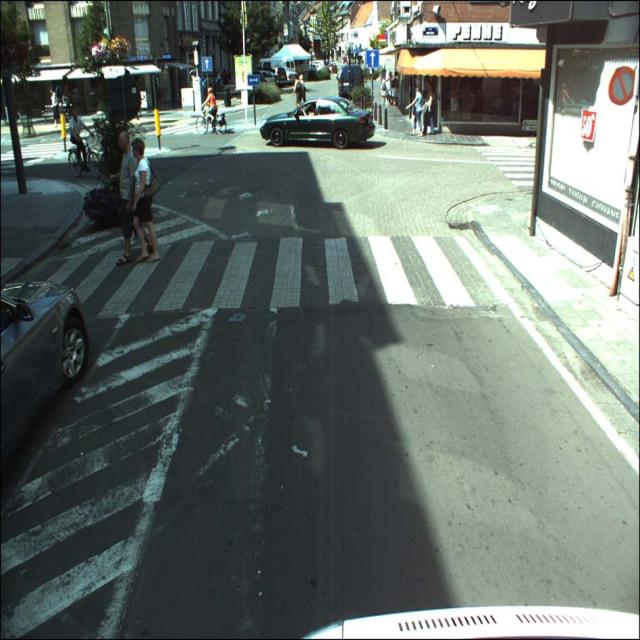parkyasak: (610, 66, 636, 106)
